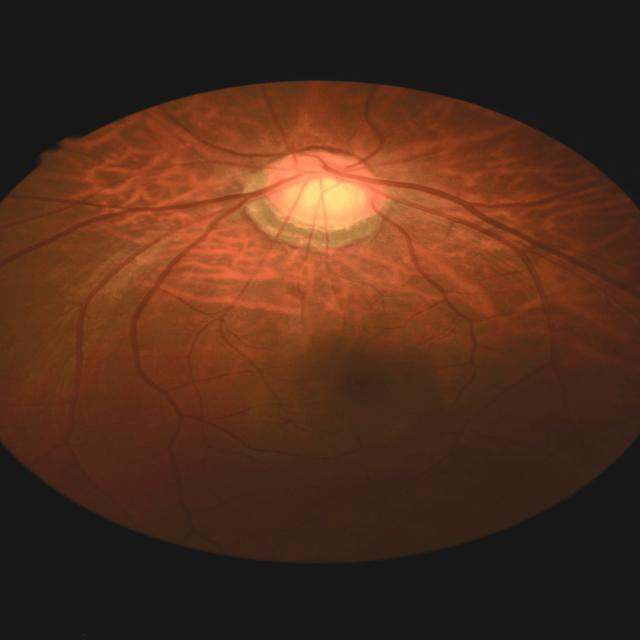cup: (284, 167, 368, 207)
disk: (263, 148, 387, 230)
